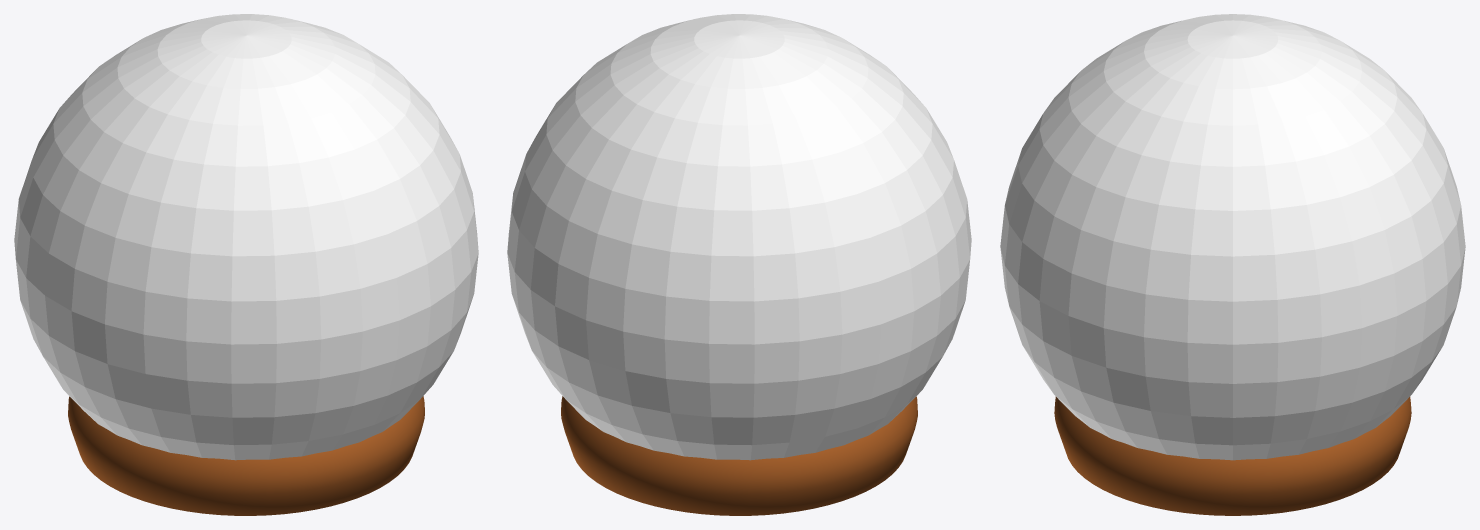
The model's file is island-winter.glb.
3 renders of one model, left to right at view 1: azimuth 30°, elevation 25°; view 2: azimuth 150°, elevation 25°; view 3: azimuth 270°, elevation 25°, orthographic.
Visible parts, largest first — view 1: Sphere, crystal.base; view 2: Sphere, crystal.base; view 3: Sphere, crystal.base.
Part boxes in pixels (bbox=[...]): Sphere: bbox=[14, 14, 478, 460]; crystal.base: bbox=[68, 396, 424, 515]; Sphere: bbox=[507, 14, 971, 460]; crystal.base: bbox=[561, 396, 917, 515]; Sphere: bbox=[1000, 14, 1465, 460]; crystal.base: bbox=[1054, 396, 1411, 515].
Bounding box in the file's own units: 2.77 × 2.77 × 2.77.
